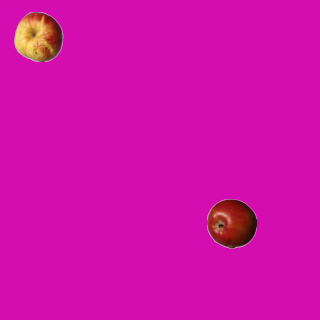Apple Braeburn: (206, 198, 256, 248)
Apple Red Yellow 1: (13, 11, 63, 61)
